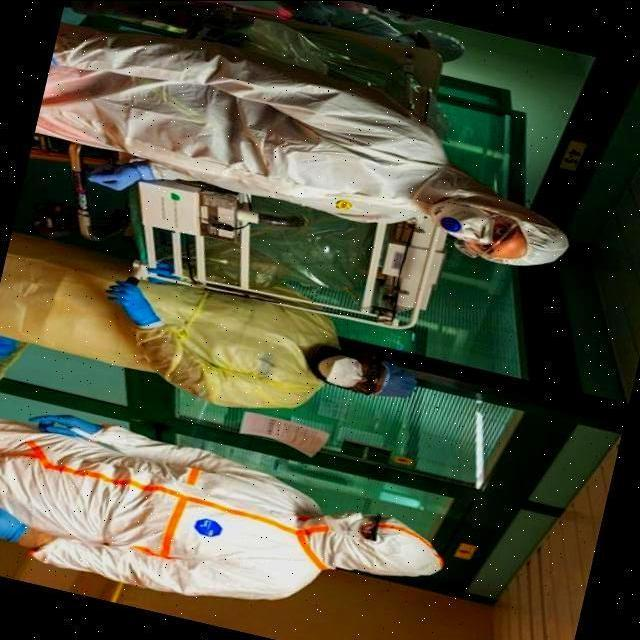apron: (96, 273, 161, 325), (88, 158, 162, 194), (26, 413, 104, 440), (0, 500, 27, 550)
mask: (434, 197, 482, 241), (326, 348, 359, 392)
